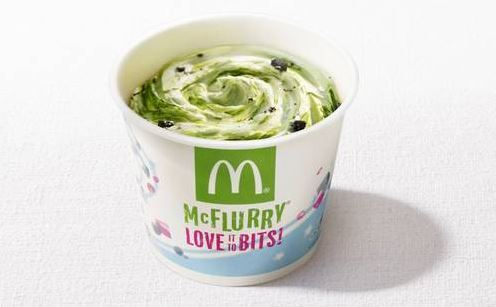mcdonalds: (201, 155, 267, 200)
